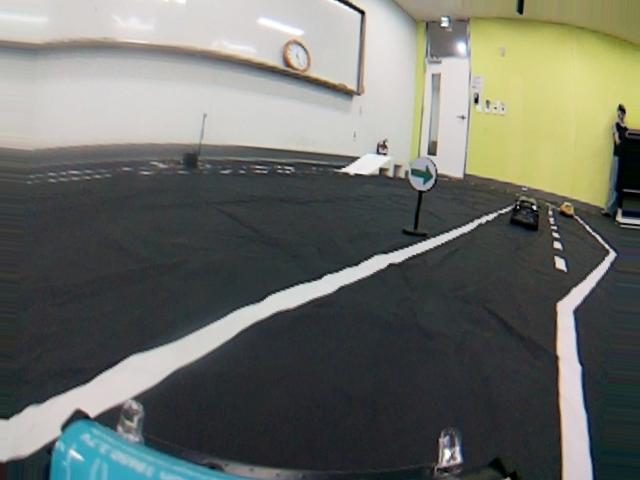car: (509, 195, 540, 230), (558, 201, 577, 217)
right: (8, 242, 622, 474)
sign_right: (407, 158, 436, 192)
